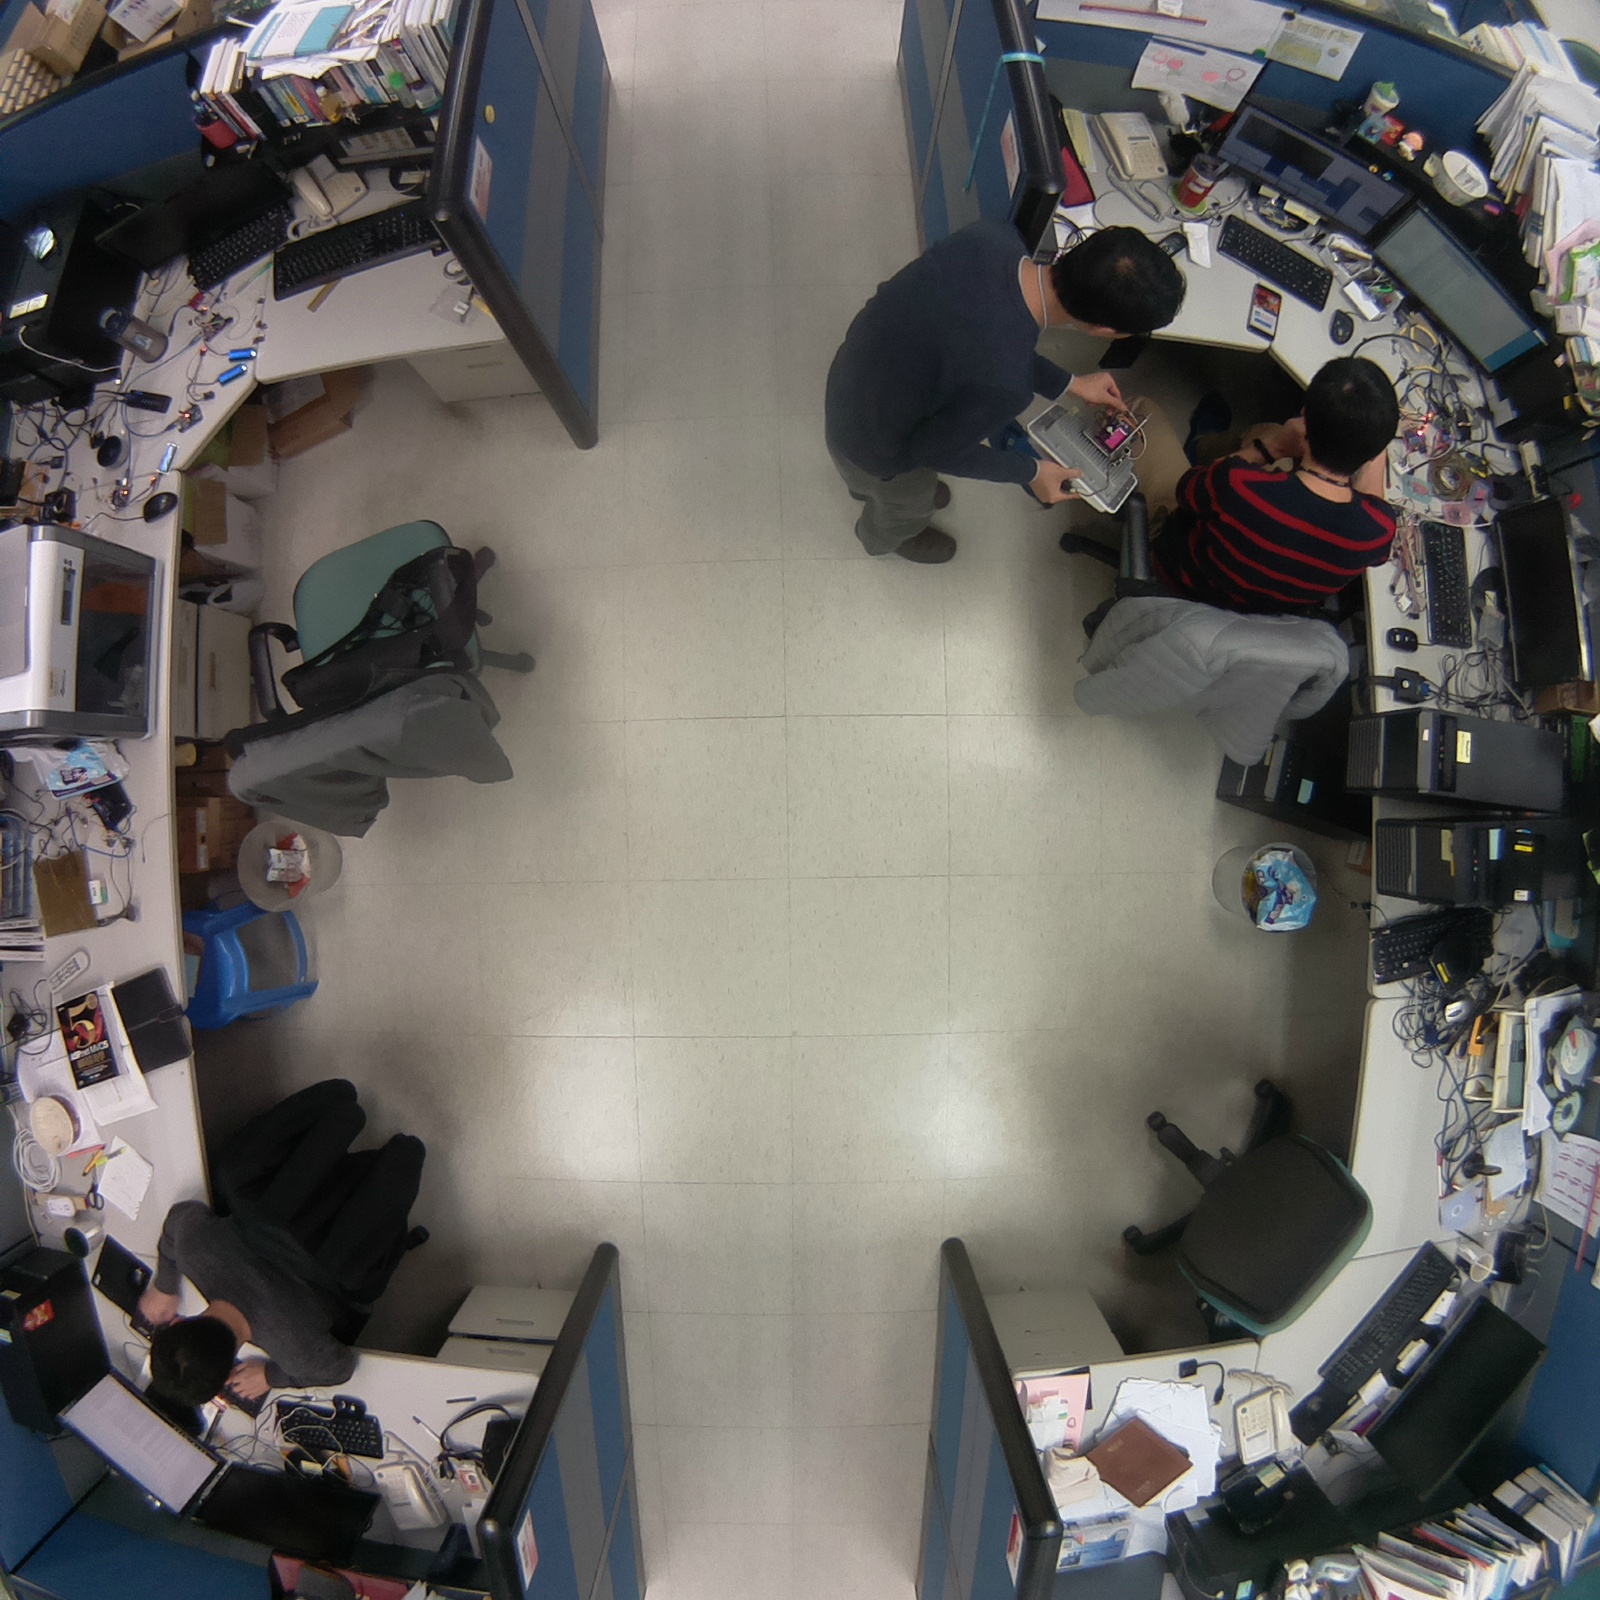chair: (201, 496, 555, 855), (1091, 1042, 1388, 1363)
head: (1049, 219, 1197, 351), (1297, 346, 1404, 476), (134, 1302, 242, 1414)
sitting: (1063, 352, 1414, 768), (121, 1050, 458, 1415)
standing: (808, 206, 1188, 578)
